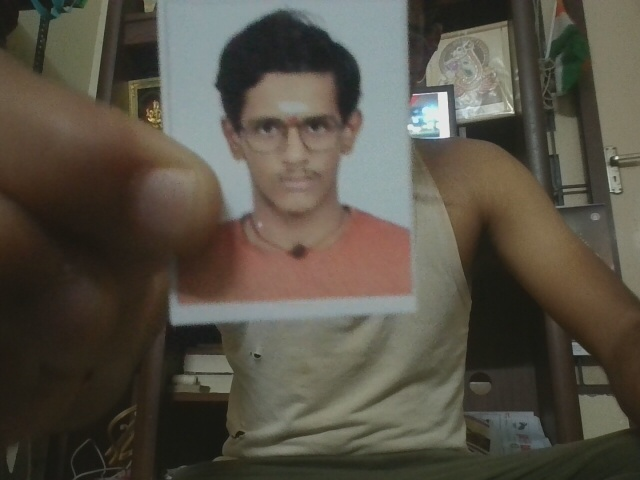fake: (218, 71, 369, 222)
